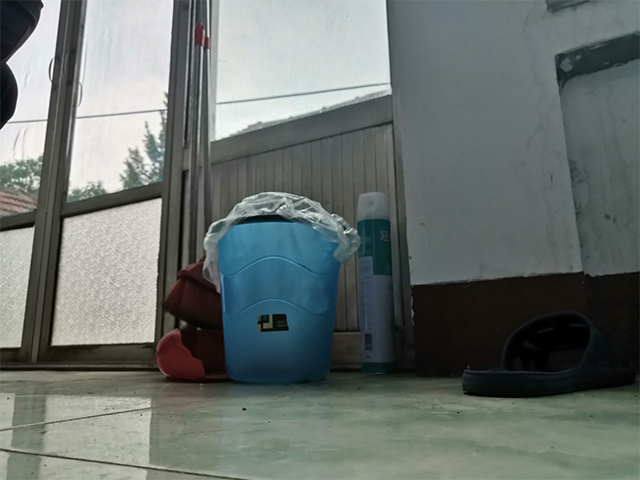slippers: (461, 309, 636, 400)
trashcan: (200, 190, 363, 385)
